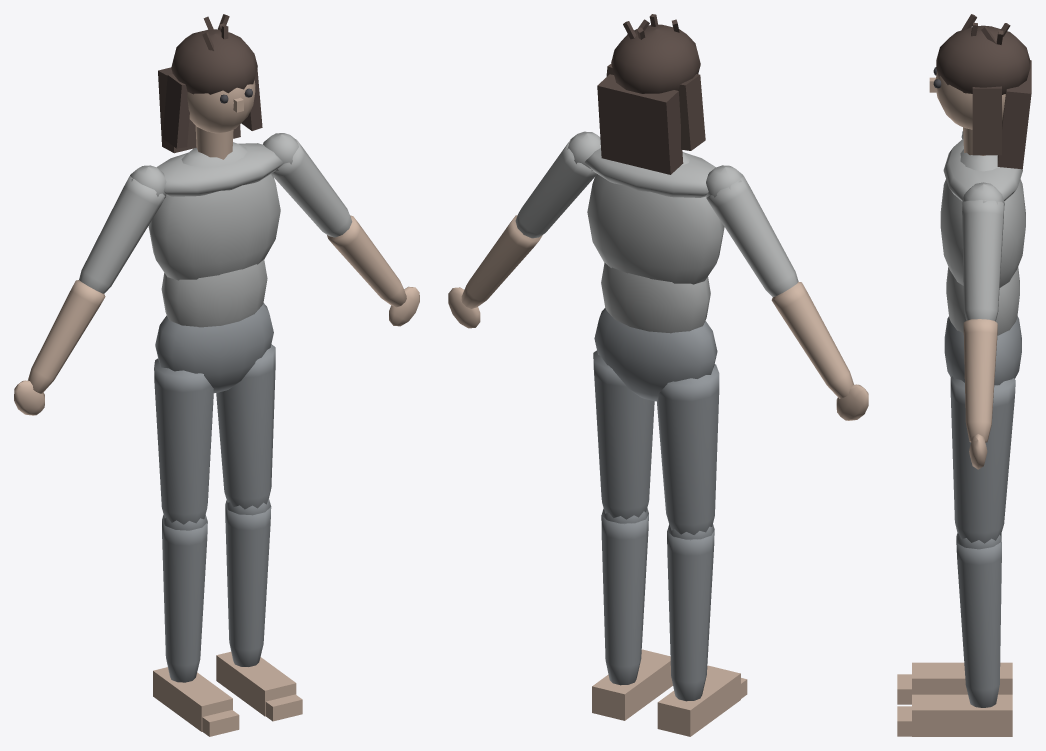
File: Maren_tonight.glb
The picture shows the model from 3 angles, left to right: view 1: azimuth 30°, elevation 25°; view 2: azimuth 150°, elevation 25°; view 3: azimuth 270°, elevation 25°; orthographic projection. The views are drawn at different scales.
Parts seen in each view (by area): view 1: Maren_tonight; view 2: Maren_tonight; view 3: Maren_tonight.
Part boxes in pixels (x1,y1,x2,y2): Maren_tonight: (14, 14, 419, 736); Maren_tonight: (448, 14, 868, 736); Maren_tonight: (897, 14, 1031, 736).
Bounding box in the file's own units: 1.11 × 1.75 × 0.3075.
